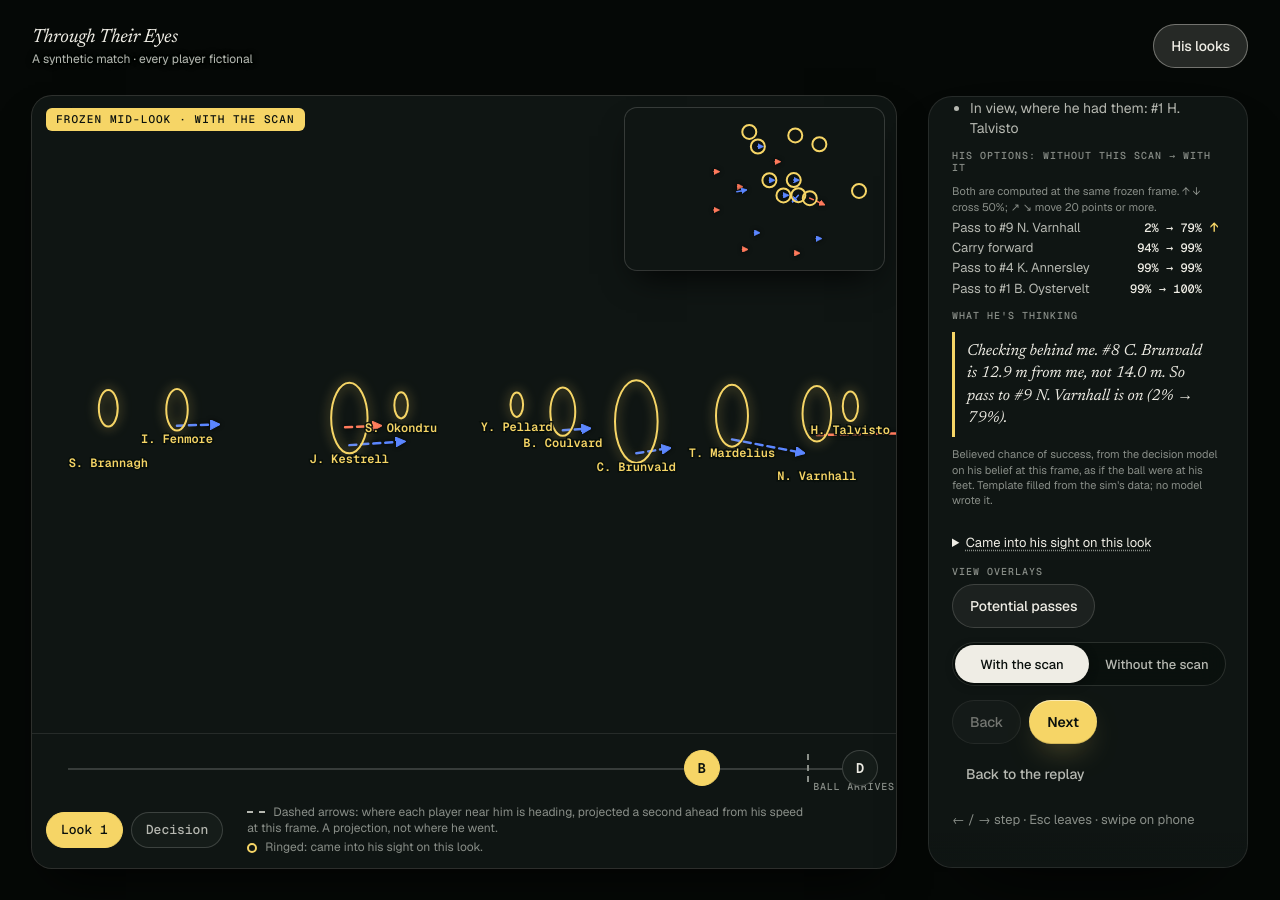
Test case: His looks: the marks › draws the decision record's options with Potential passes, his pick in gold
(page scrolled)
Click the button "Potential passes".
click(1024, 606)  # box [952,584,1095,628]
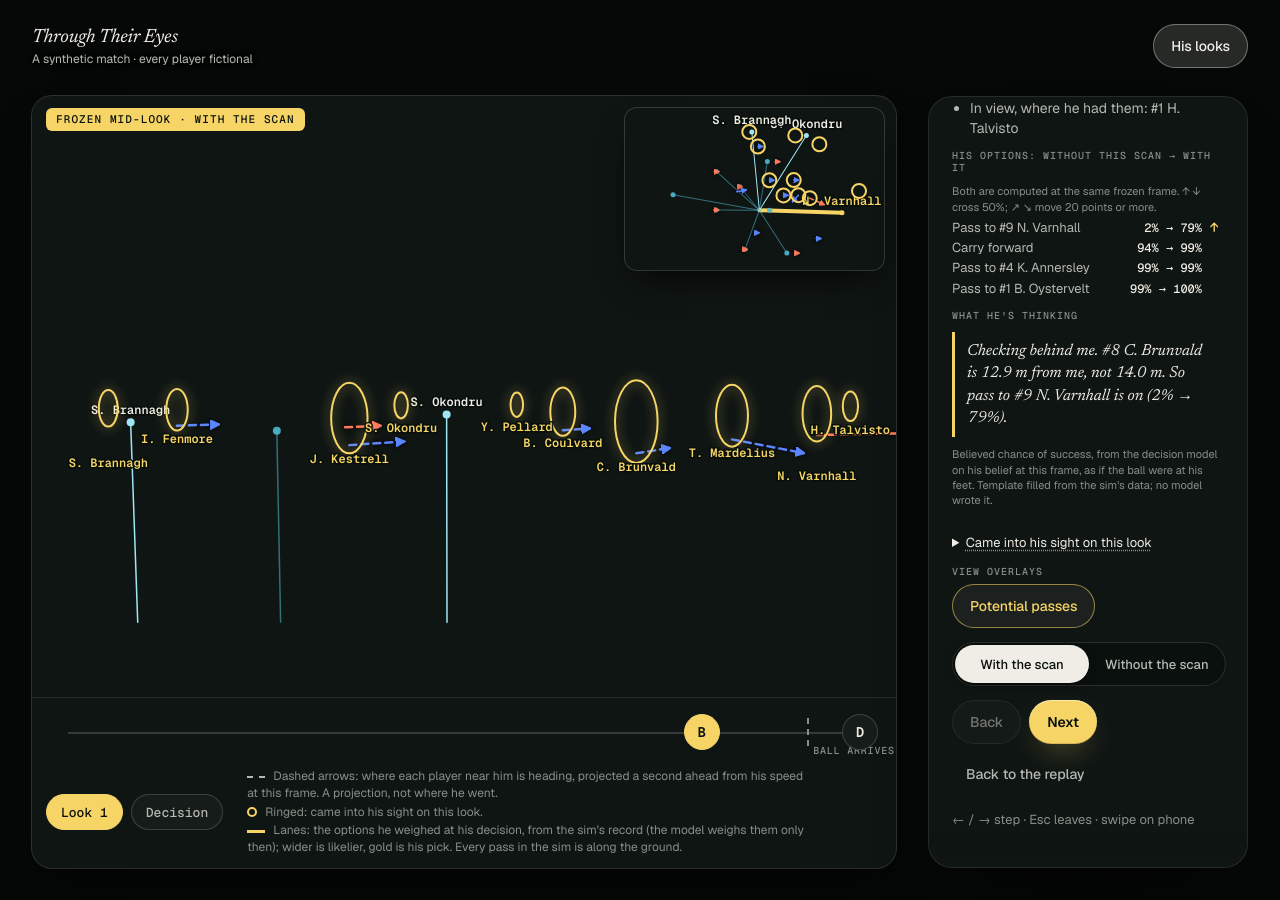
Expected: the list with class "ss-legend" shows "along the ground", [247,822,804,855]
